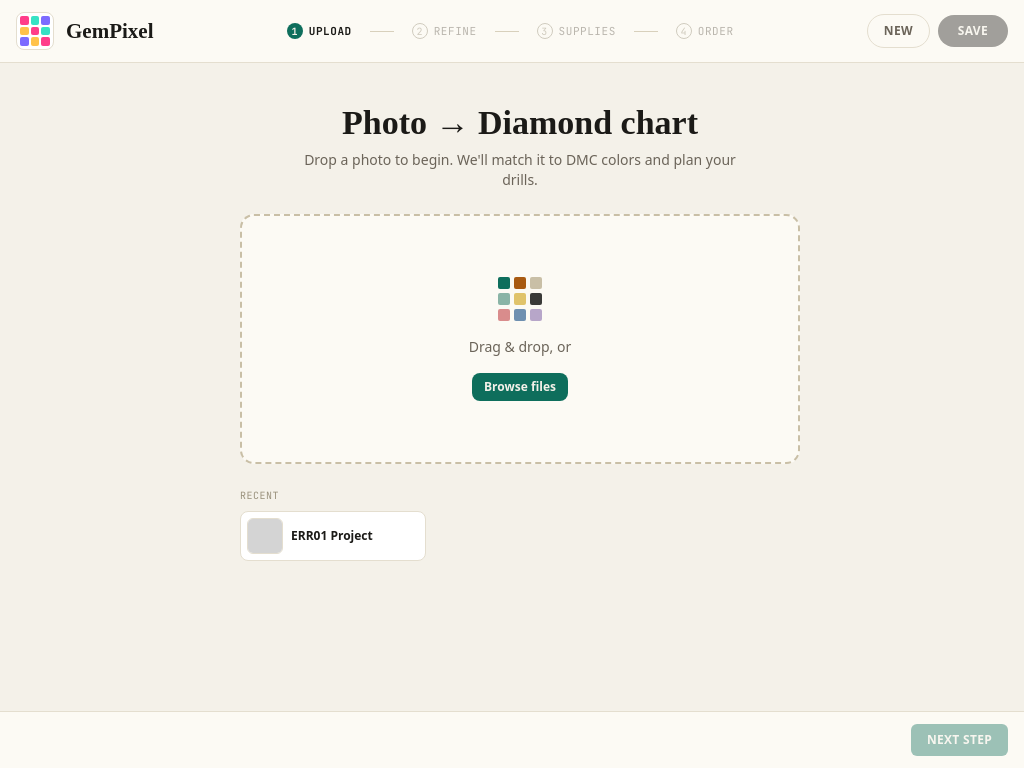
App Component Mounting and Basic UI Inputs › ERR-01 unified action-error banner › shows the actionError banner when a canvas download fails (W5)
Click the button "ERR01 Project": click(310, 536) [247,518,373,554]
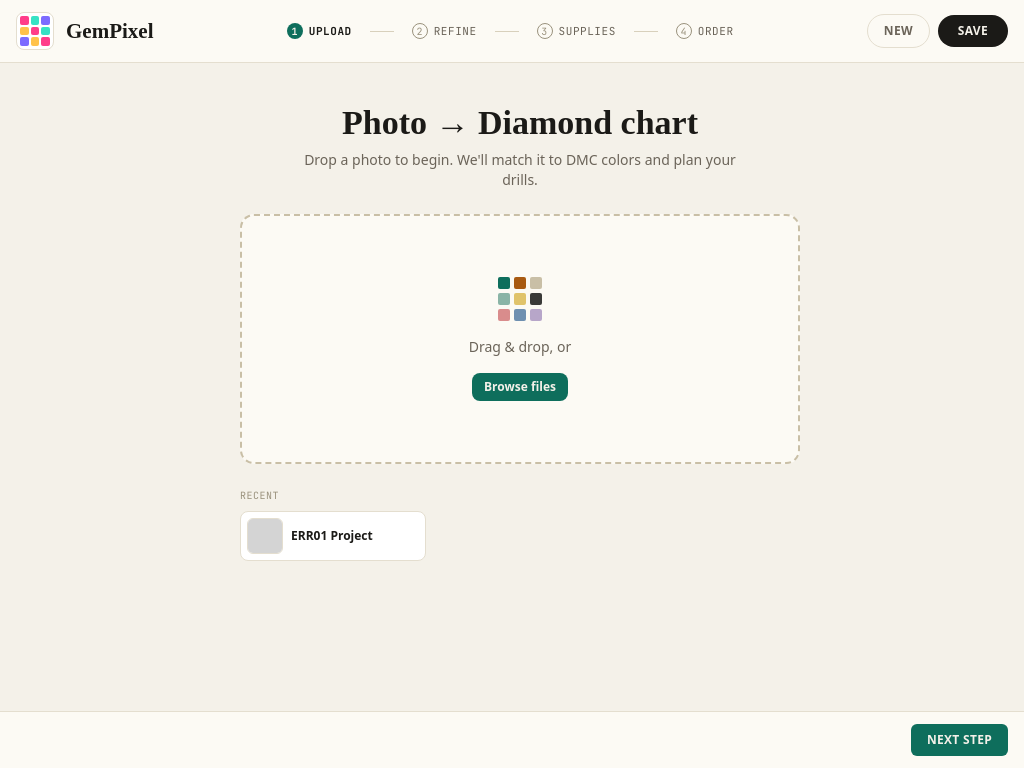
Click the button with id "wizard-next-btn": click(959, 740) [911,724,1008,756]
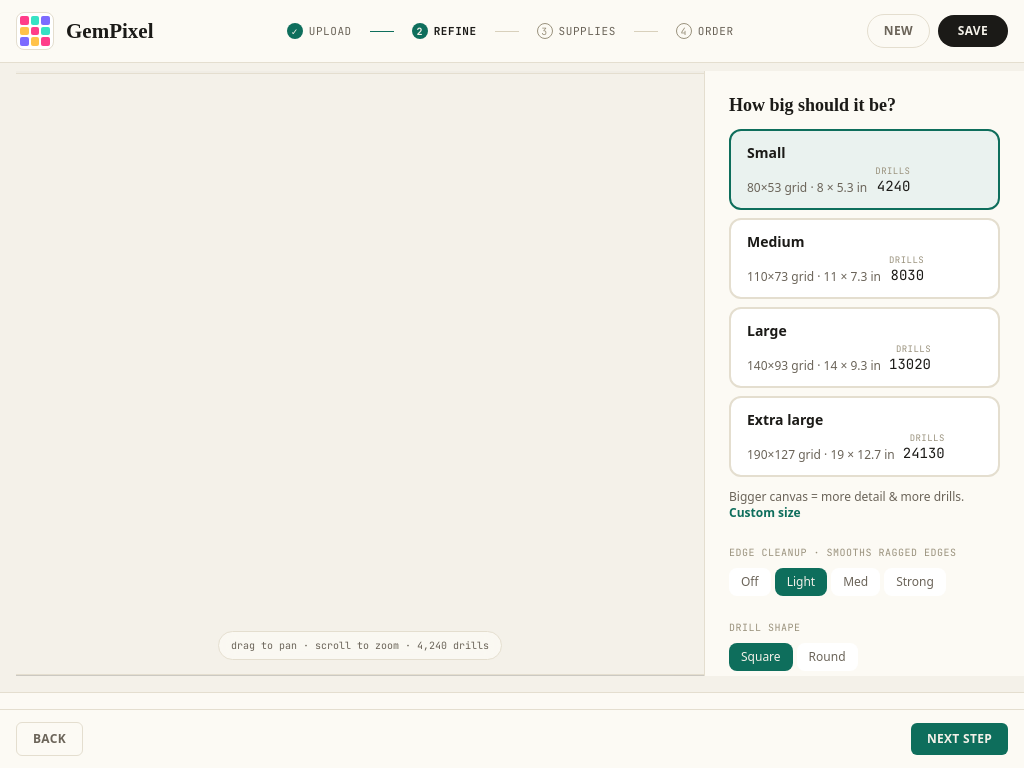
Click the button with id "wizard-next-btn": click(959, 739) [911,723,1008,755]
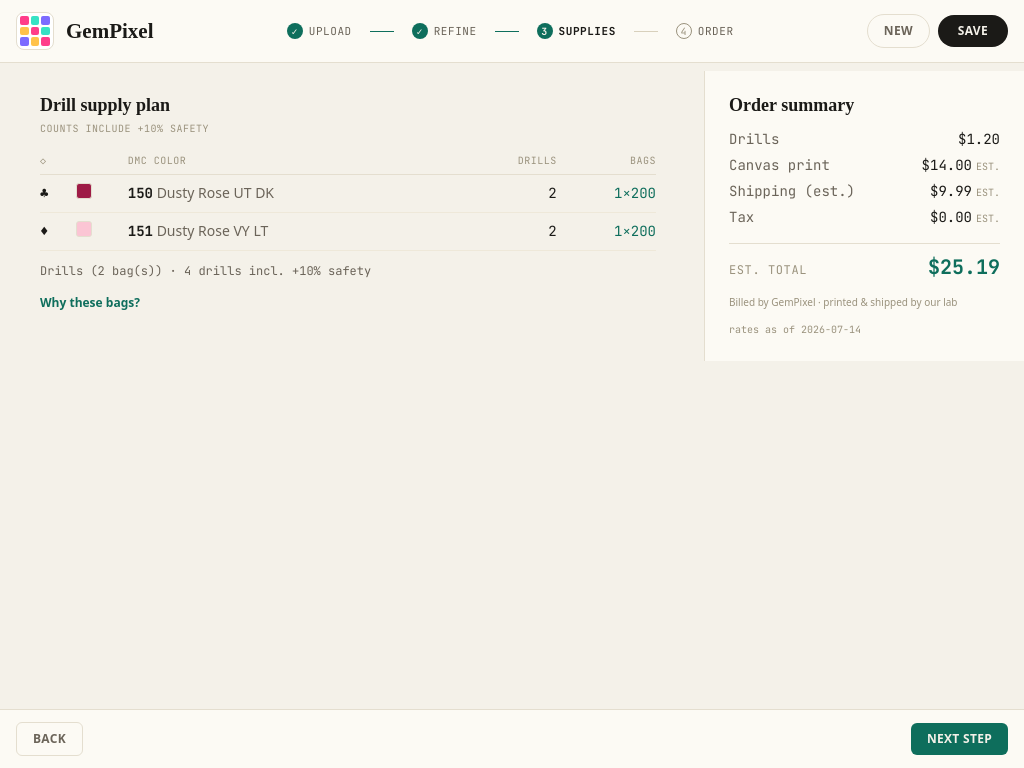
Click the button with id "wizard-next-btn": click(959, 739) [911,723,1008,755]
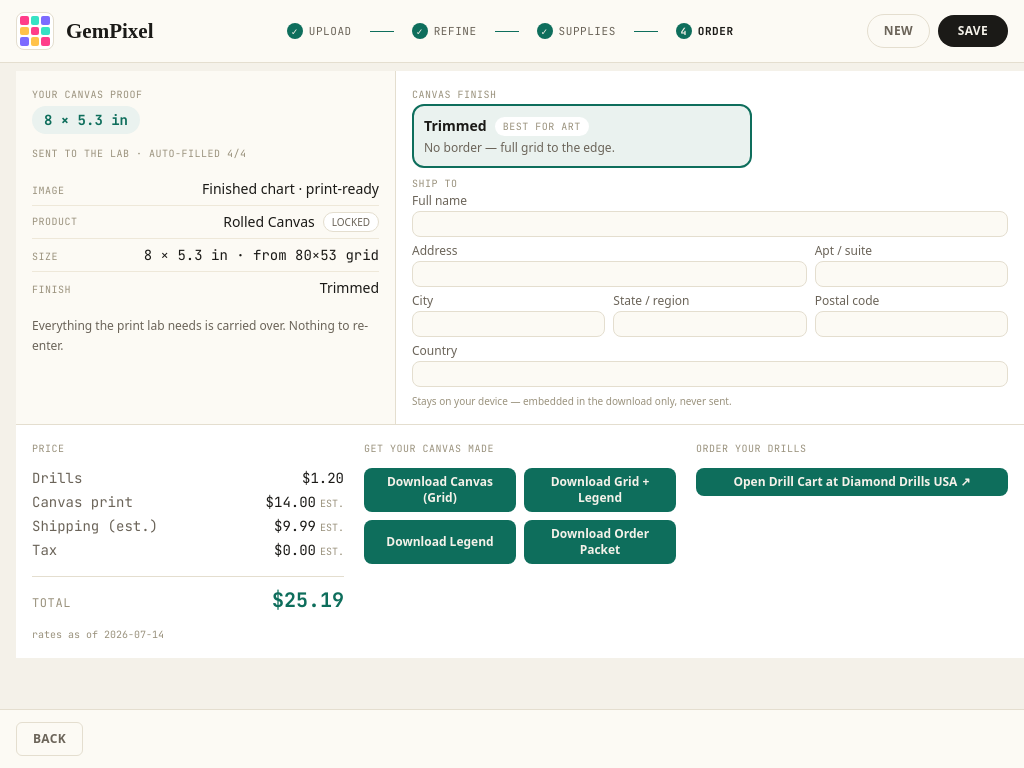
Now the button with test id "order-download-canvas-cta" is shown
Click the button with test id "order-download-canvas-cta": click(440, 490) [364,468,516,512]
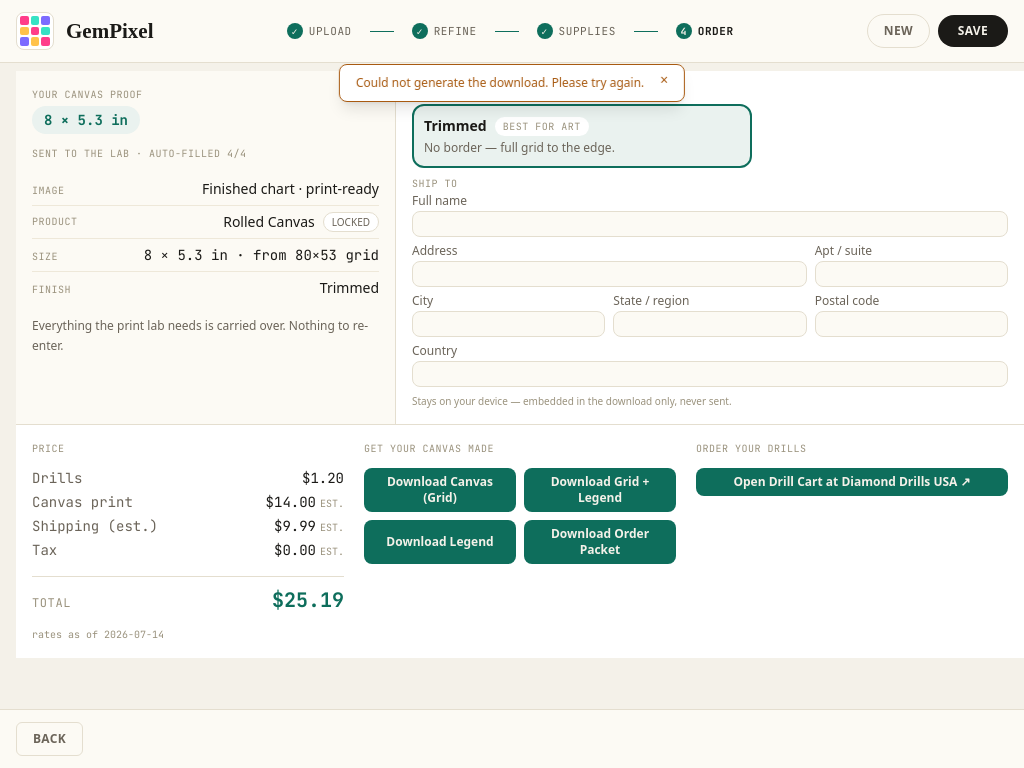
Now the text "Could not generate the download" is shown, box [356,74,644,91]
